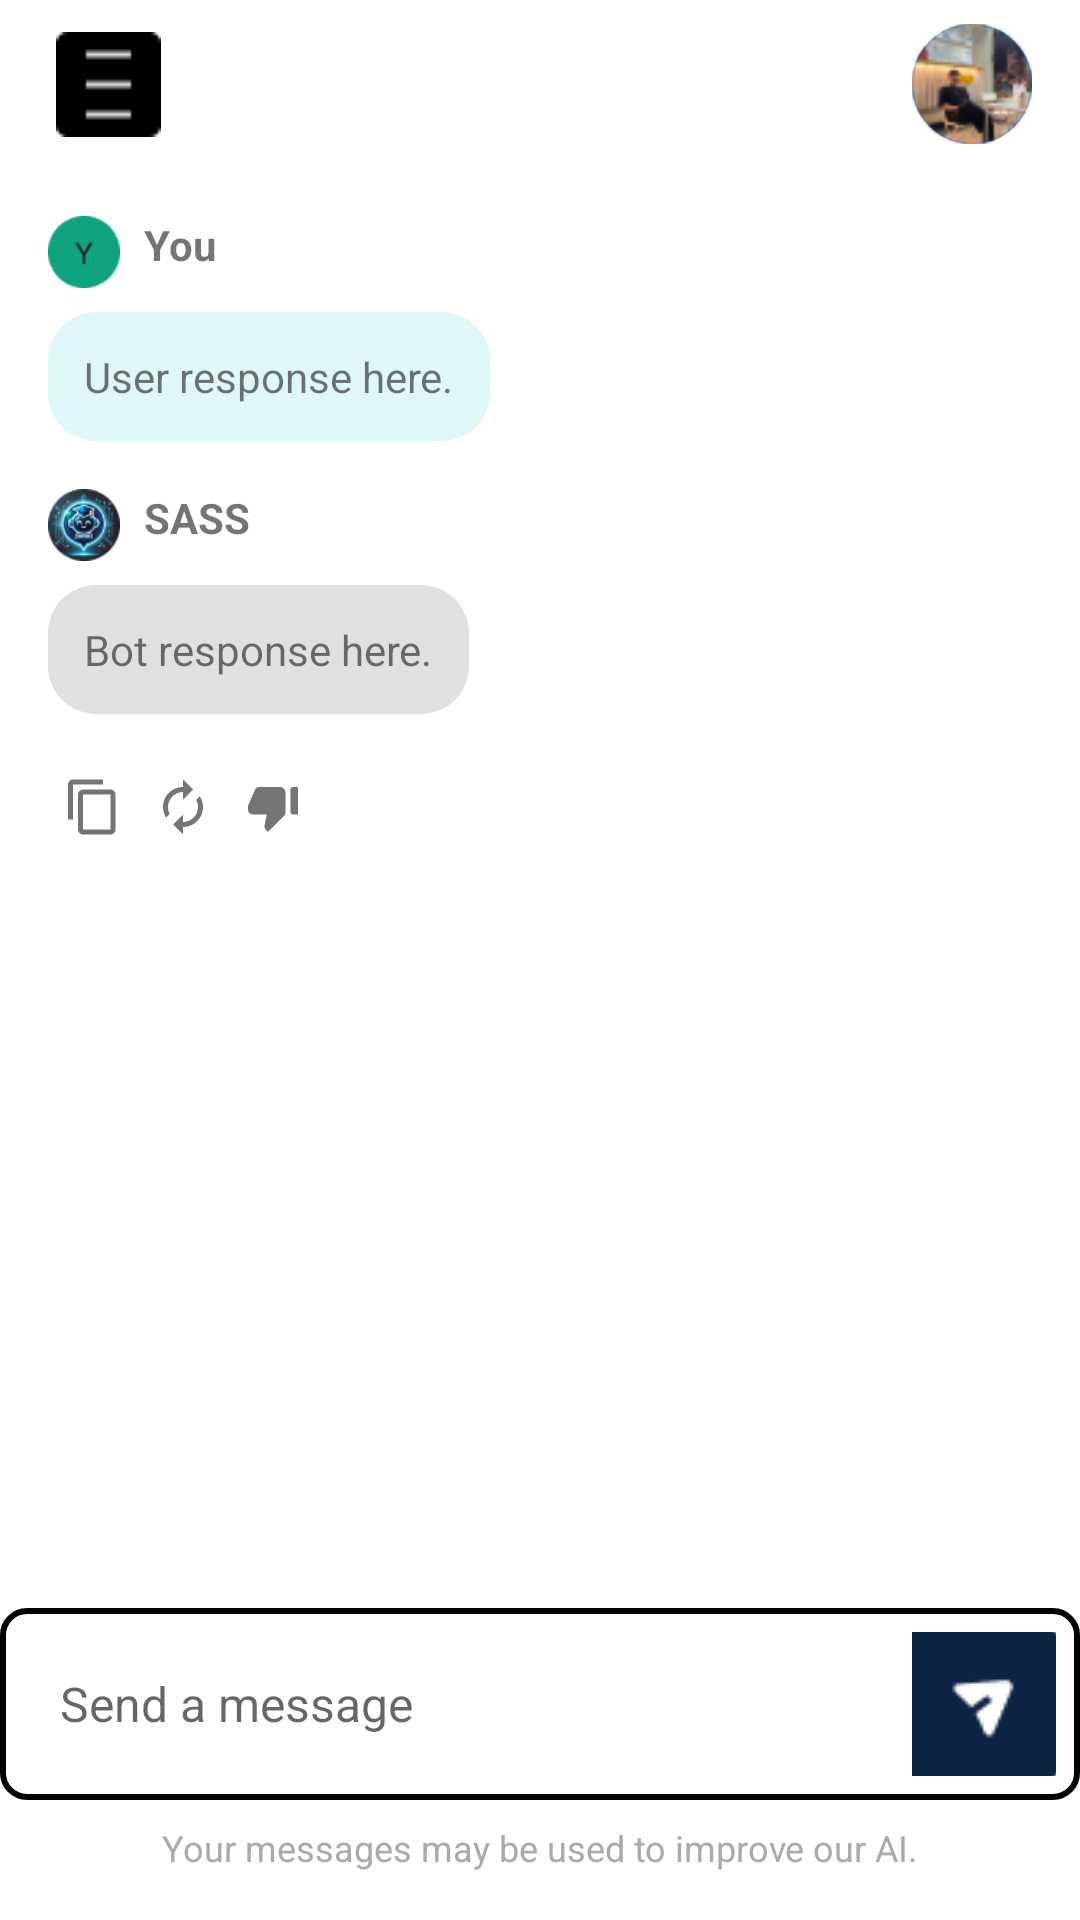

Icon bounding boxes for this 1080 x 1920 phone screenshot, format (x1, y1, x2, y2):
Copy: (68, 779, 116, 835)
Dislike: (248, 787, 298, 832)
Menu: (56, 32, 161, 137)
profile: (912, 24, 1032, 144)
Refresh: (163, 779, 203, 834)
